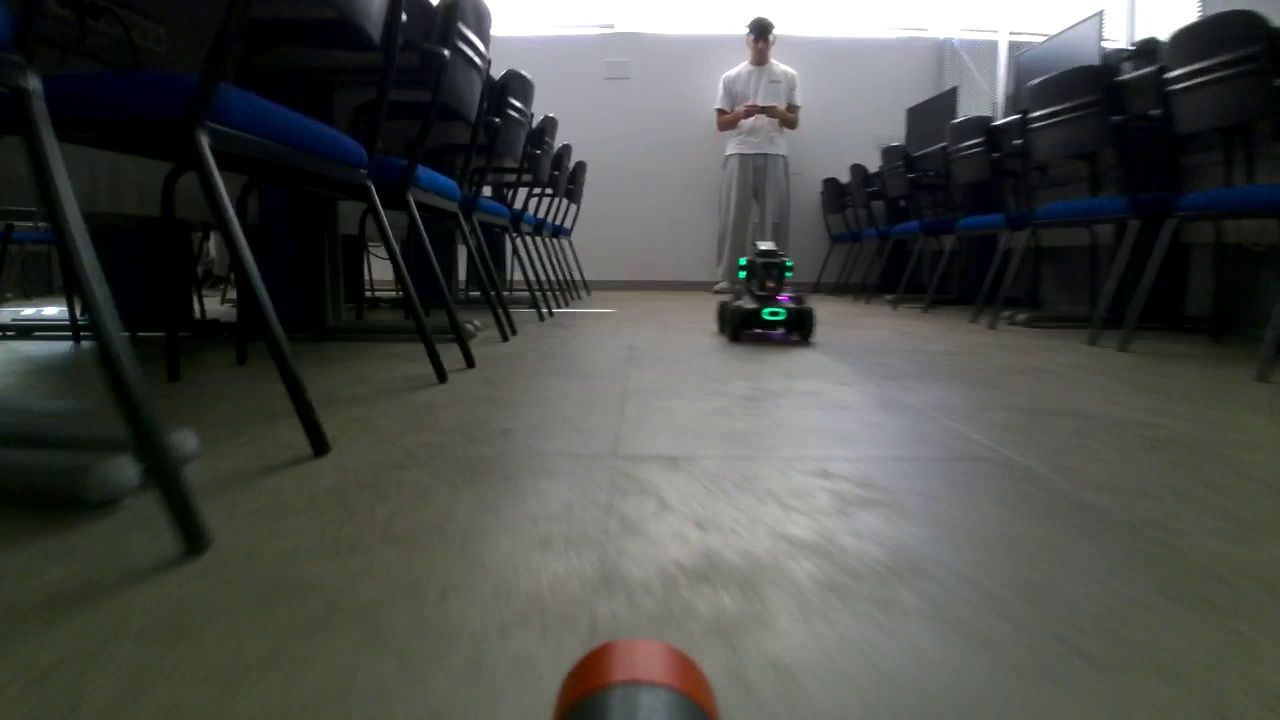robot: (716, 221, 818, 350), (732, 245, 807, 317)
